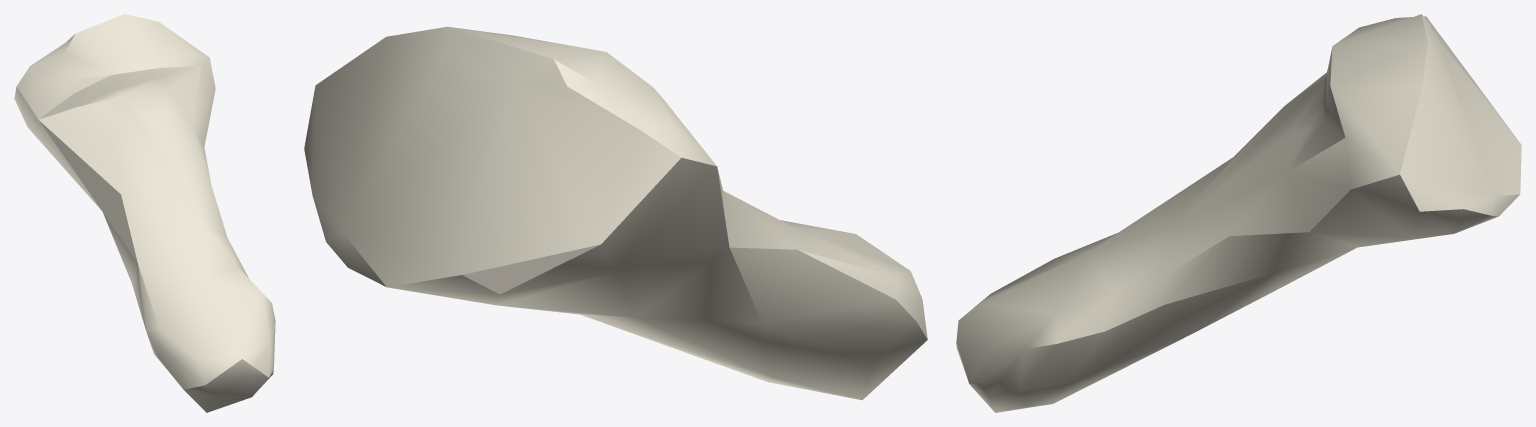
The model's file is fma24461_fj3196.glb.
3 views of the same model, side by side, from view 1: azimuth 30°, elevation 25°; view 2: azimuth 150°, elevation 25°; view 3: azimuth 270°, elevation 25° (orthographic). The views are drawn at different scales.
Parts seen in each view (by area): view 1: FMA24461_FJ3196; view 2: FMA24461_FJ3196; view 3: FMA24461_FJ3196.
Part boxes in pixels (left/top/right/bottom): FMA24461_FJ3196: left=14, top=14, right=275, bottom=412; FMA24461_FJ3196: left=304, top=26, right=927, bottom=400; FMA24461_FJ3196: left=956, top=14, right=1521, bottom=412.
Size of the model in its own units: 0.00955 by 0.0135 by 0.0172.
